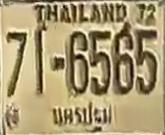1: (35, 30, 43, 96)
5: (89, 30, 110, 95), (135, 29, 156, 93)
6: (113, 31, 134, 94), (70, 31, 88, 95)
7: (6, 31, 28, 96)
NPT: (48, 101, 114, 134)
